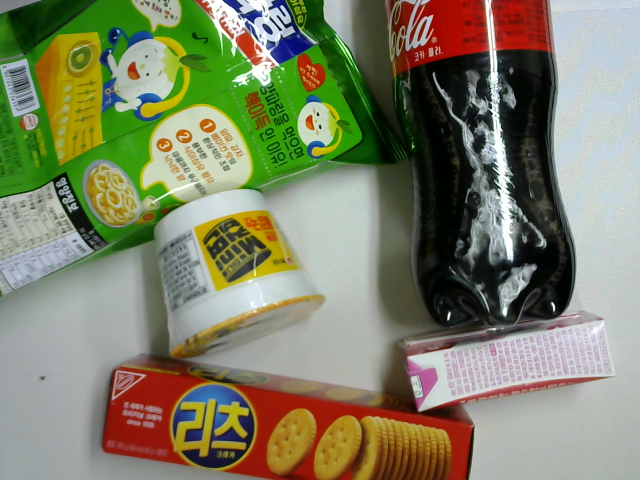Coca_Cola_1.5L: (378, 1, 582, 337)
Hejangmini: (145, 184, 340, 371)
Oninon_Ring: (3, 1, 410, 310)
Ritz_Cracker: (88, 352, 483, 480)
Strawberry_E_Mong: (395, 309, 622, 414)
